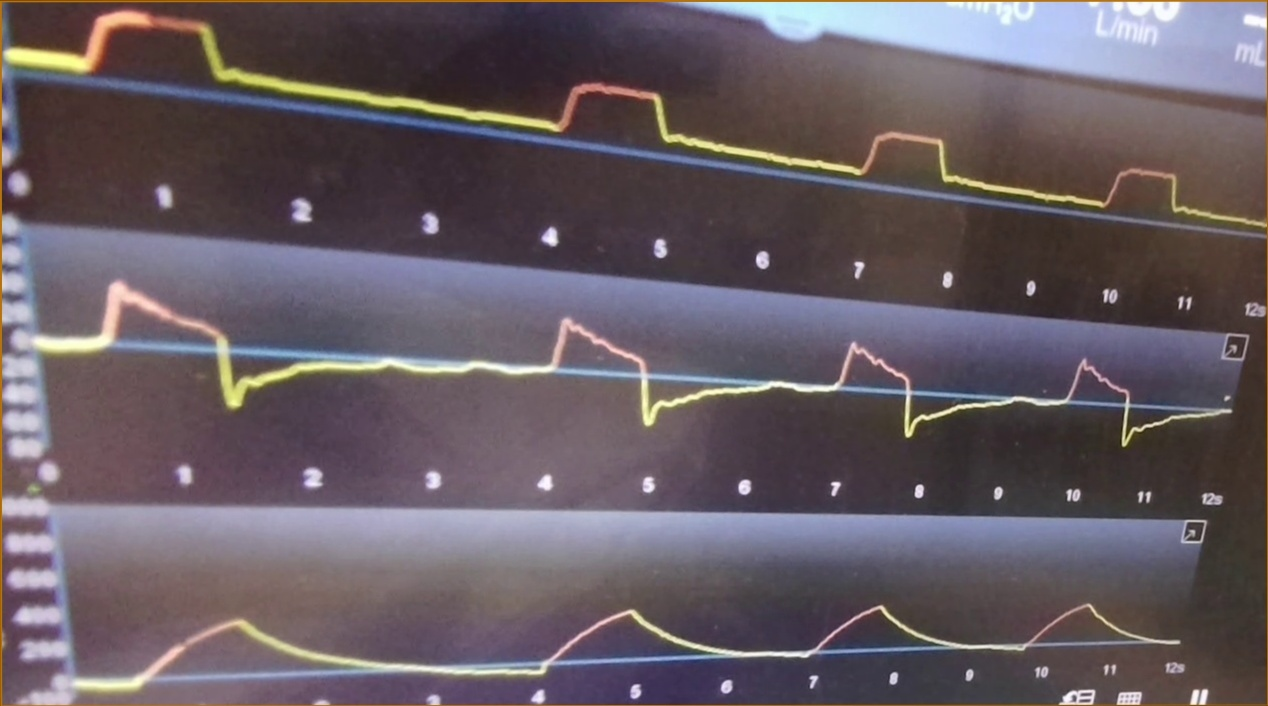Accumulation Flow: (47, 283, 1232, 448)
Volume: (72, 562, 1180, 695)
